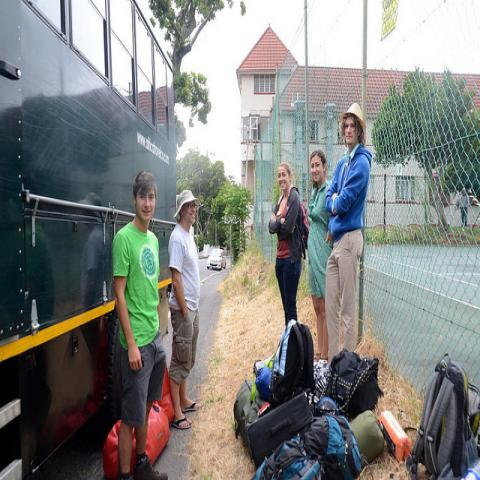bus: (0, 1, 179, 457)
car: (207, 248, 226, 270)
